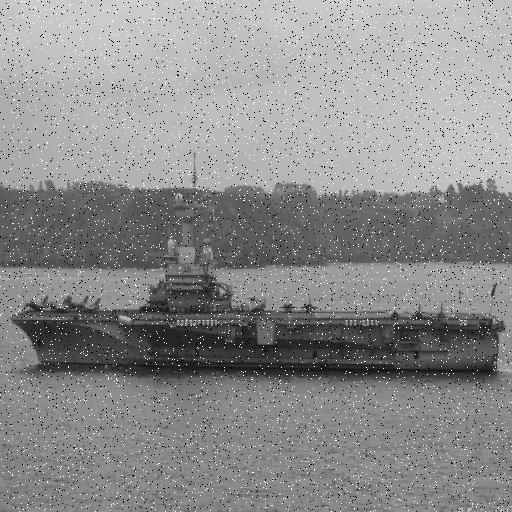Portanaves: (6, 156, 510, 372)
